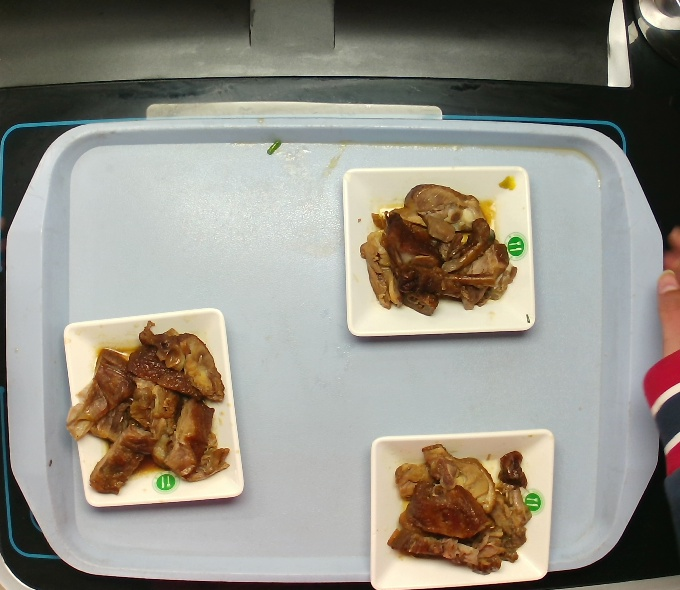wcq-YaRou: (67, 317, 234, 495), (373, 424, 543, 589), (356, 182, 520, 312)
